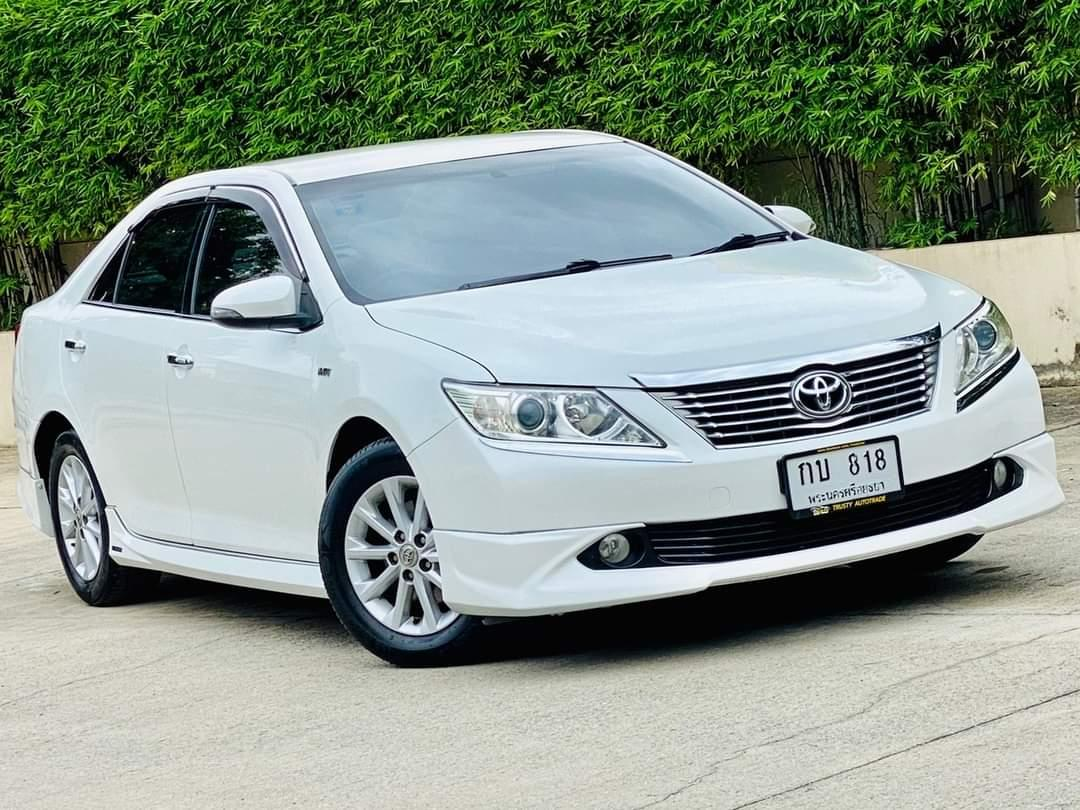license-plate: (773, 432, 910, 526)
